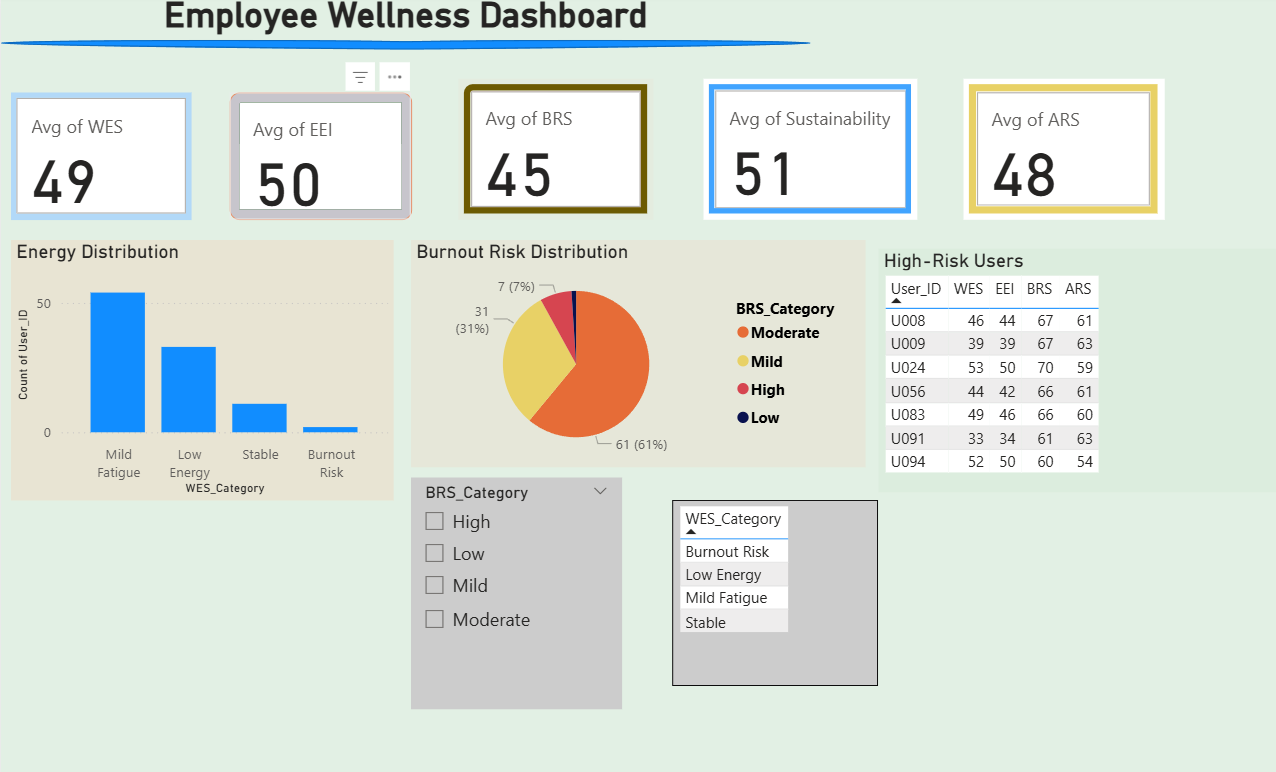

The page's visual inventory and layout, read from the dashboard file:
{"tool":"powerbi","page":{"name":"High-Risk Users","canvas":[1280,720],"ordinal":0},"visuals":[{"type":"cardVisual","fields":{"Data":["Avg(WellAura_Data.WES)"]},"box":[8.9,86.7,161.1,113.3],"z":0},{"type":"cardVisual","fields":{"Data":["Avg(WellAura_Data.EEI)"]},"box":[203.3,86.7,162.2,113.3],"z":1000},{"type":"cardVisual","fields":{"Data":["Avg(WellAura_Data.BRS)"]},"box":[407.8,74.4,173.3,125.6],"z":2000},{"type":"cardVisual","fields":{"Data":["Avg(WellAura_Data.Sustainability)"]},"box":[625.6,74.4,190,125.6],"z":3000},{"type":"cardVisual","fields":{"Data":["Avg(WellAura_Data.ARS)"]},"box":[856.7,74.4,178.9,125.6],"z":4000},{"type":"pieChart","title":"Burnout Risk Distribution","fields":{"Category":["WellAura_Data.BRS_Category"],"Y":["CountNonNull(WellAura_Data.User_ID)"]},"box":[365.6,217.8,404.4,202.2],"z":5000},{"type":"clusteredColumnChart","title":"Energy Distribution","fields":{"Category":["WellAura_Data.WES_Category"],"Y":["CountNonNull(WellAura_Data.User_ID)"]},"box":[8.9,217.8,341.1,232.2],"z":6000},{"type":"tableEx","title":"High-Risk Users","fields":{"Values":["WellAura_Data.User_ID","WellAura_Data.WES","WellAura_Data.EEI","WellAura_Data.BRS","WellAura_Data.ARS"]},"box":[781.1,225.6,367.8,216.7],"z":7000},{"type":"slicer","fields":{"Values":["WellAura_Data.BRS_Category"]},"box":[365.6,430,187.8,206.7],"z":8000},{"type":"tableEx","fields":{"Values":["WellAura_Data.WES_Category"]},"box":[597.8,450,183.3,165.6],"z":9000},{"type":"shape","title":"Employee Wellness Dashboard","box":[0,0,721.1,48.9],"z":10000}]}

Visuals, with their boxes on the page's 1280x720 design canvas (x1, y1, x2, y2). These are canvas units, not pixel positions in the 1276x772 screenshot, which may show the page scaled, cropped or inside an application window:
cardVisual - Avg(WellAura_Data.WES): rect(9, 87, 170, 200)
cardVisual - Avg(WellAura_Data.EEI): rect(203, 87, 366, 200)
cardVisual - Avg(WellAura_Data.BRS): rect(408, 74, 581, 200)
cardVisual - Avg(WellAura_Data.Sustainability): rect(626, 74, 816, 200)
cardVisual - Avg(WellAura_Data.ARS): rect(857, 74, 1036, 200)
"Burnout Risk Distribution" pieChart: rect(366, 218, 770, 420)
"Energy Distribution" clusteredColumnChart: rect(9, 218, 350, 450)
"High-Risk Users" tableEx: rect(781, 226, 1149, 442)
slicer - WellAura_Data.BRS_Category: rect(366, 430, 553, 637)
tableEx - WellAura_Data.WES_Category: rect(598, 450, 781, 616)
"Employee Wellness Dashboard" shape: rect(0, 0, 721, 49)
